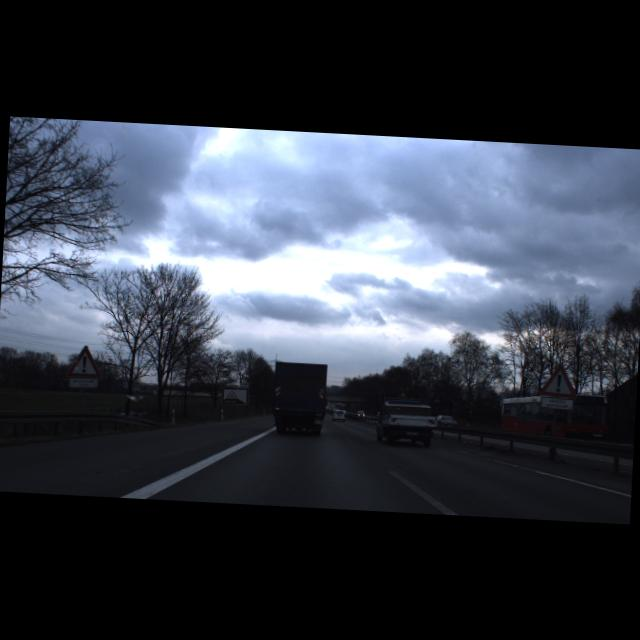danger: (538, 361, 578, 398), (66, 344, 105, 378)
